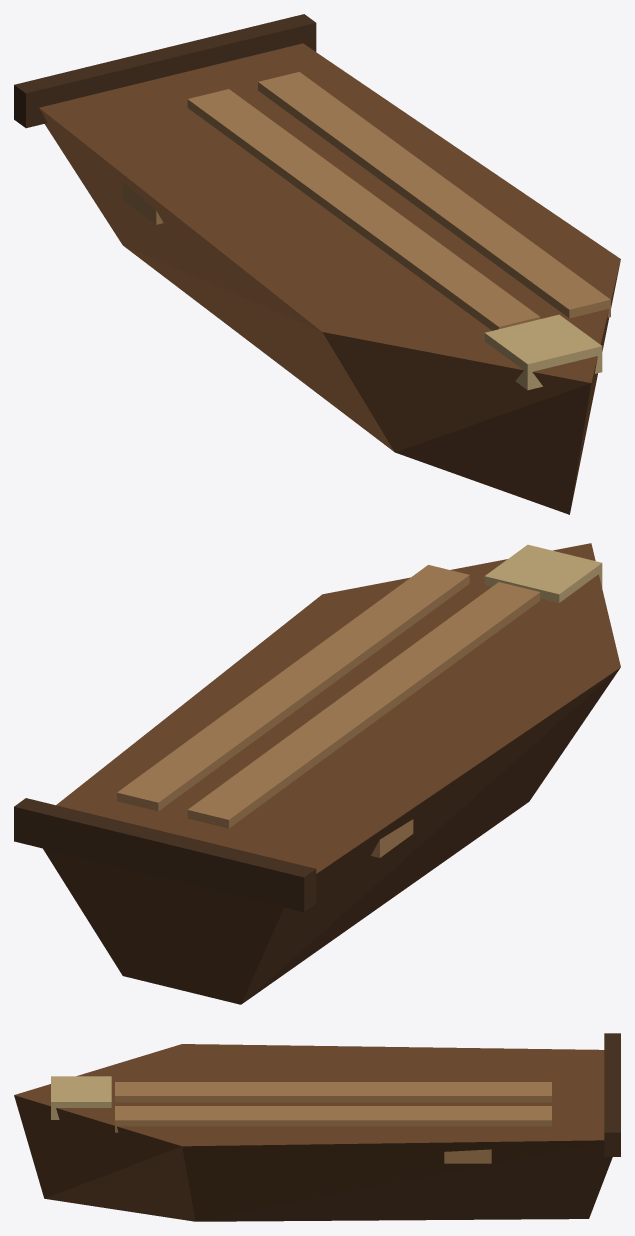
Rendered from med-bote.gltf.
3 views of the same model, one above another, from view 1: azimuth 30°, elevation 25°; view 2: azimuth 150°, elevation 25°; view 3: azimuth 270°, elevation 25° (orthographic). The views are drawn at different scales.
Parts seen in each view (by area): view 1: med-bote; view 2: med-bote; view 3: med-bote.
Boxes of the visible parts, box(x1,y1,x2,y2) form: med-bote: box(14, 14, 620, 514); med-bote: box(14, 543, 620, 1004); med-bote: box(14, 1033, 620, 1221).
Size of the model in its own units: 0.72 by 0.38 by 1.8.
